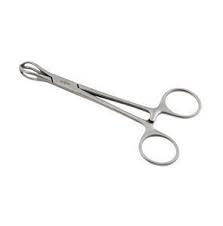Lane Tissue Forceps: (19, 54, 205, 165)
